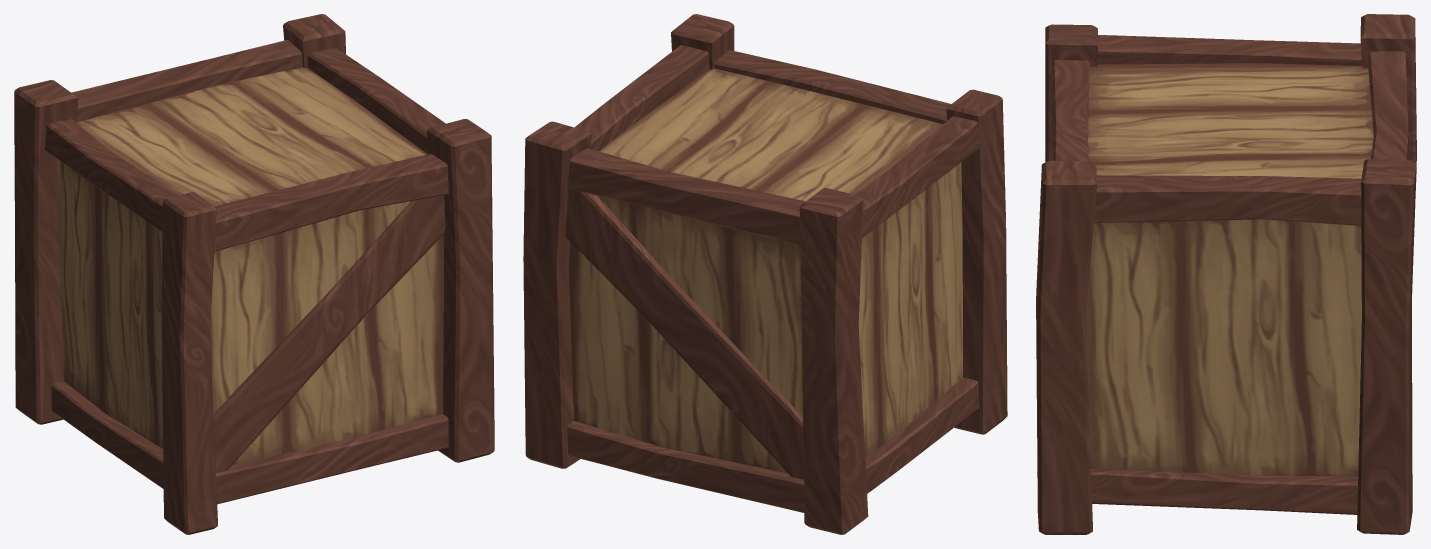
File: Crate.fbx
3 renders of one model, left to right at view 1: azimuth 30°, elevation 25°; view 2: azimuth 150°, elevation 25°; view 3: azimuth 270°, elevation 25°, orthographic. The views are drawn at different scales.
Parts seen in each view (by area): view 1: CrateSmall; view 2: CrateSmall; view 3: CrateSmall.
Part boxes in pixels (box(x1,y1,x2,y2)): CrateSmall: box(14, 14, 494, 534); CrateSmall: box(523, 14, 1007, 534); CrateSmall: box(1036, 14, 1416, 534).
Bounding box in the file's own units: 10.75 × 10.6 × 10.08.
